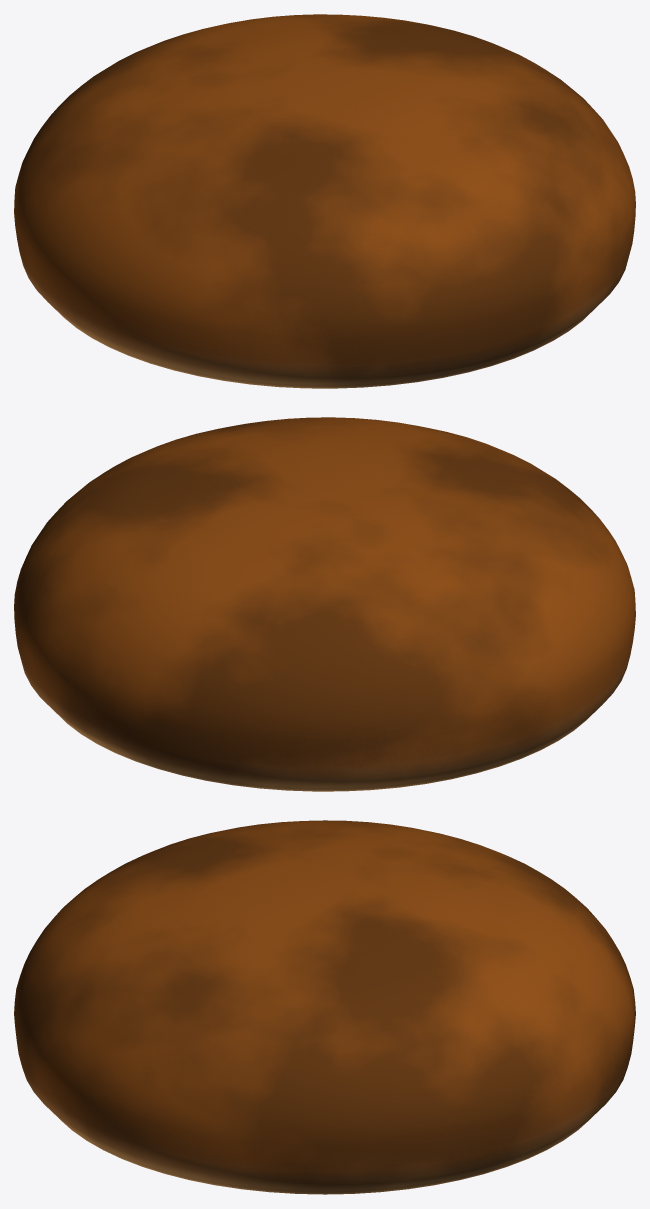
File: bread_up.gltf
3 views of the same model, one above another, from view 1: azimuth 30°, elevation 25°; view 2: azimuth 150°, elevation 25°; view 3: azimuth 270°, elevation 25° (orthographic).
Visible parts, largest first — view 1: Cylinder.001; view 2: Cylinder.001; view 3: Cylinder.001.
Part boxes in pixels (<box>): Cylinder.001: <box>14,14,635,388</box>; Cylinder.001: <box>14,417,635,791</box>; Cylinder.001: <box>14,820,635,1194</box>.
Size of the model in its own units: 2.04 by 0.6799 by 2.04.
Materials: 1 (1 with a texture image).
